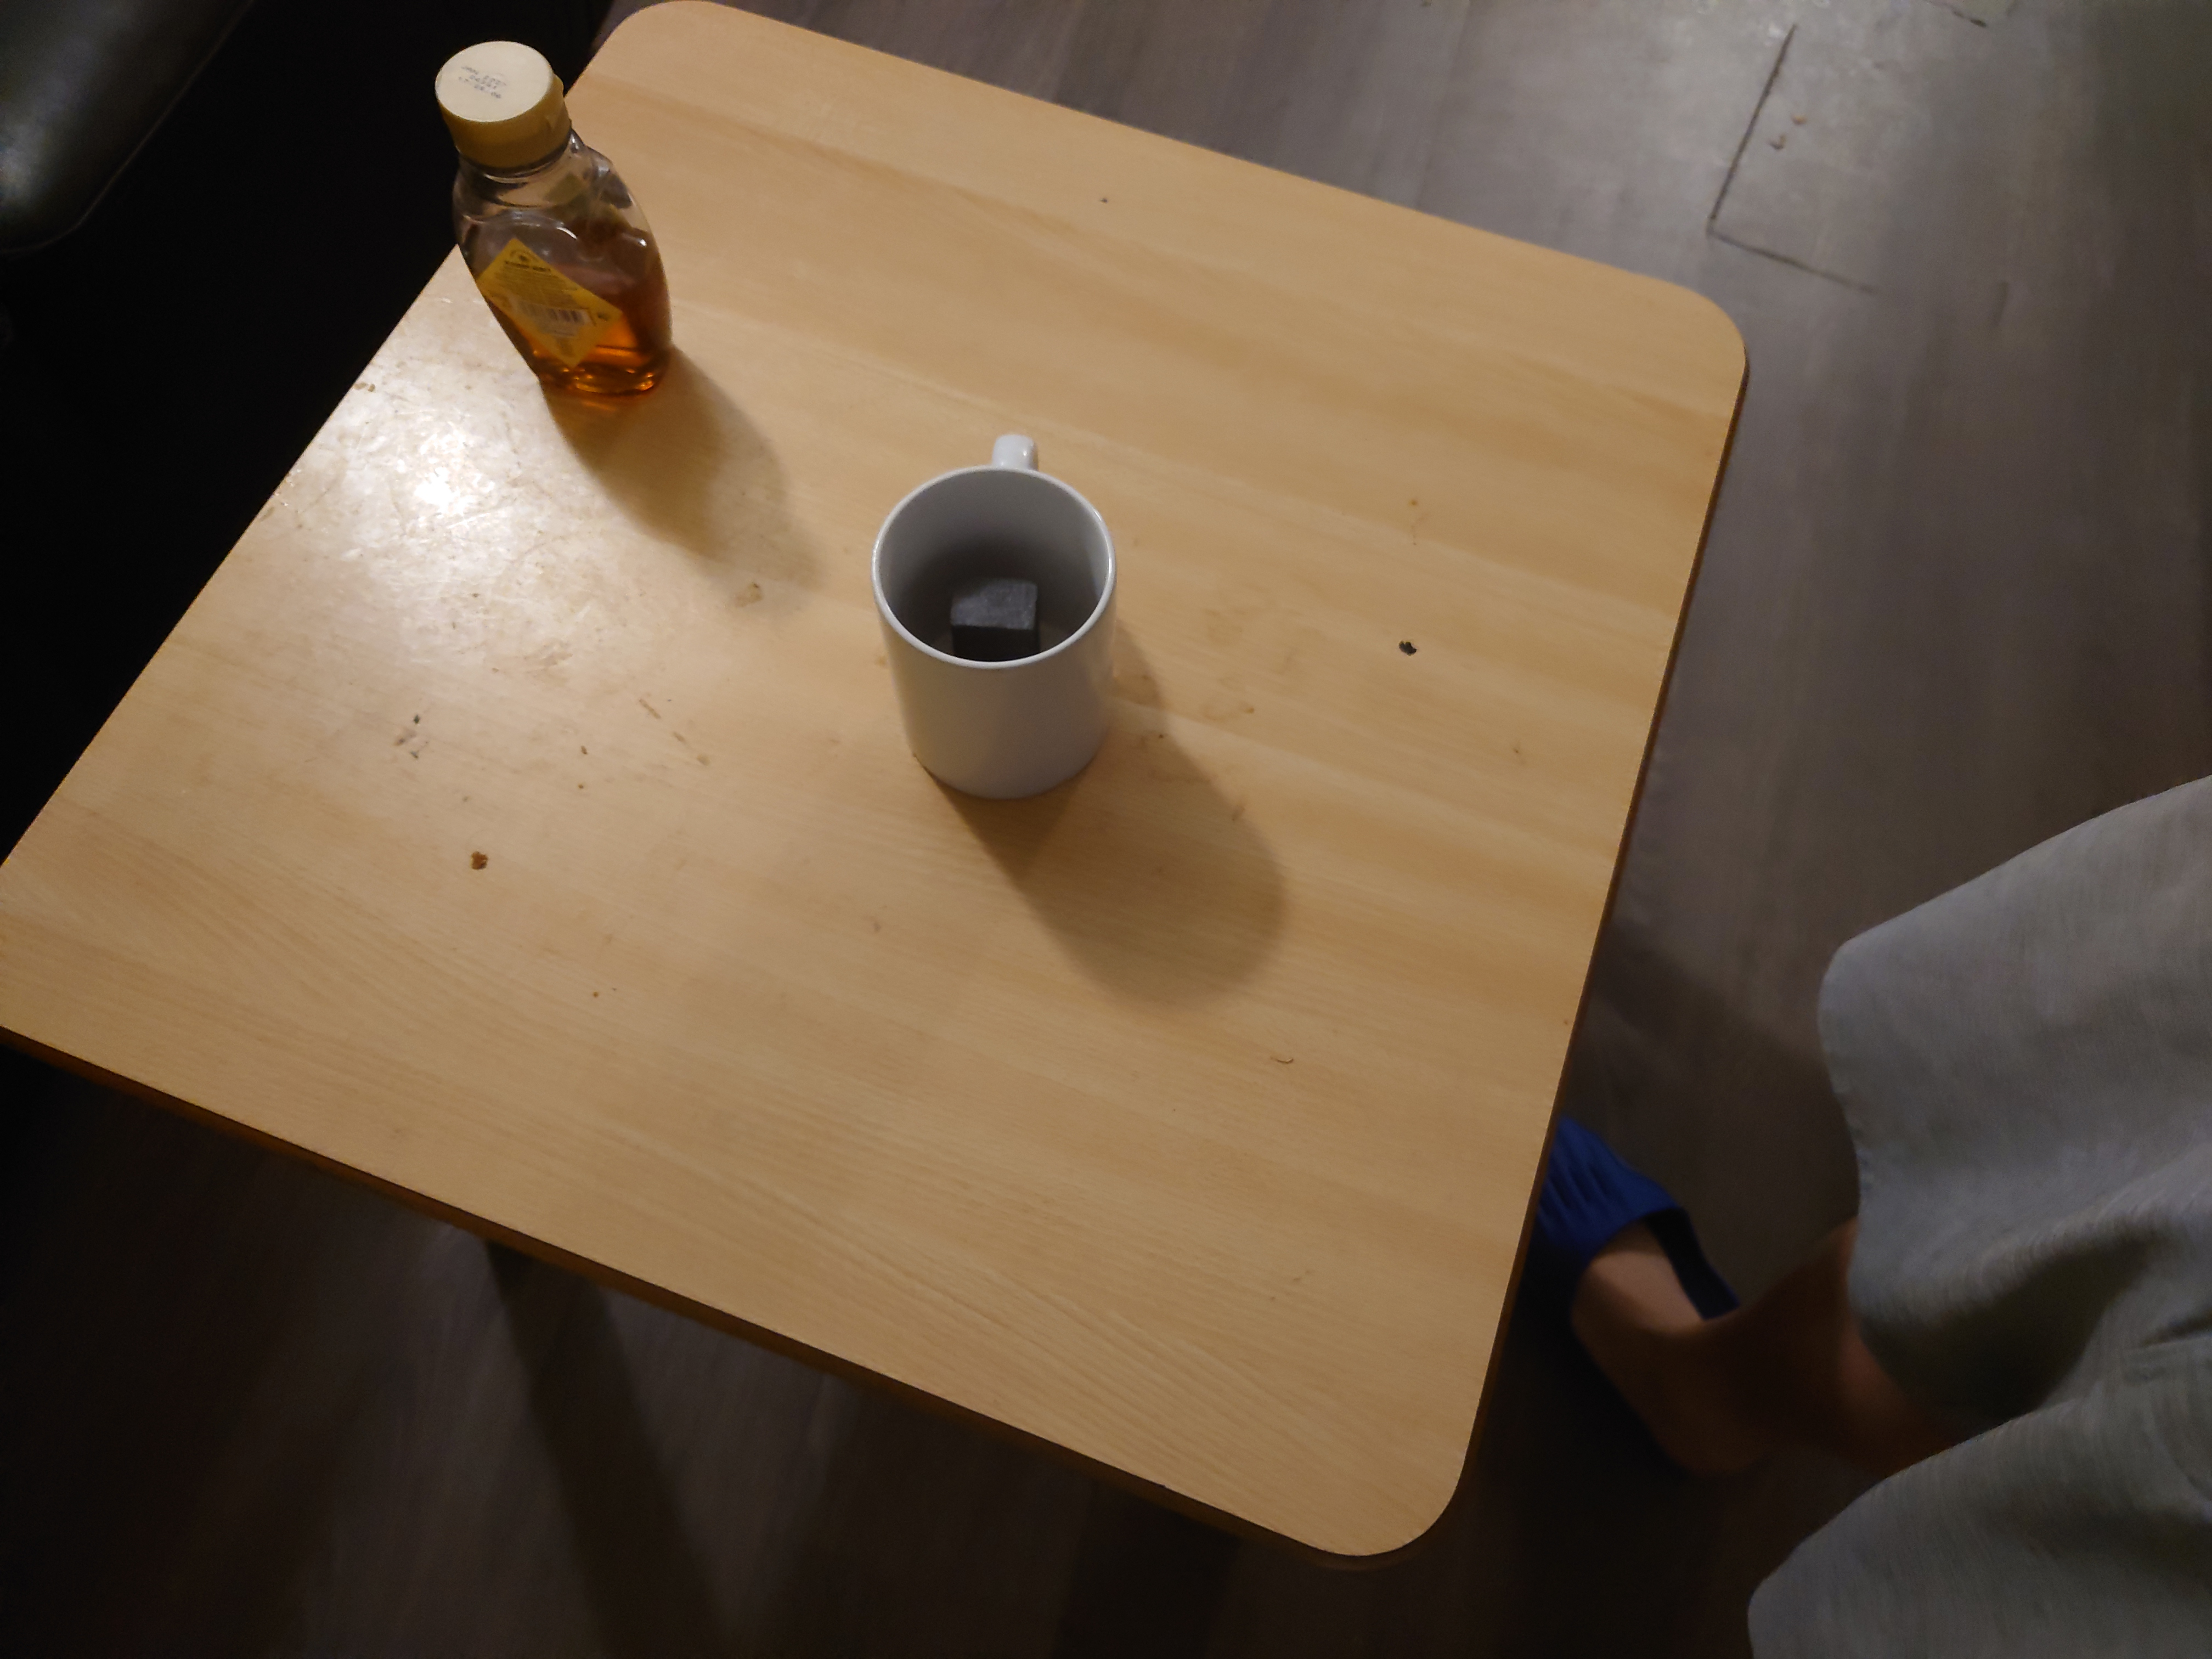cup: (867, 425, 1123, 800)
target: (951, 570, 1047, 741)
